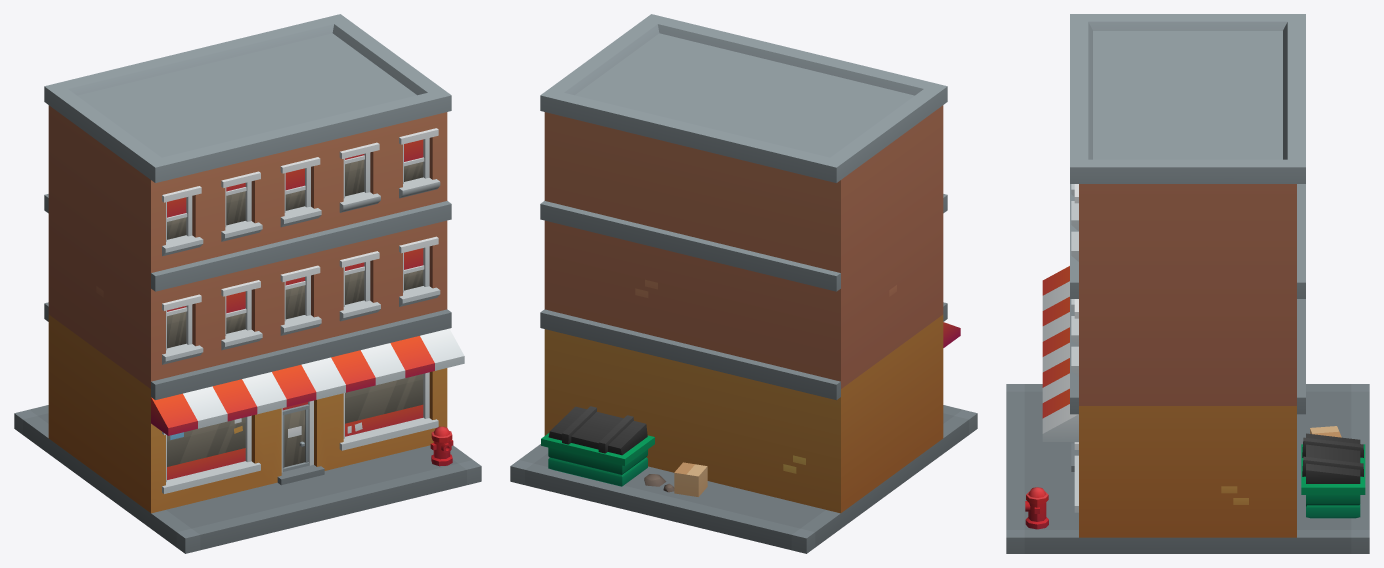
File: Building.glb
The picture shows the model from 3 angles, left to right: view 1: azimuth 30°, elevation 25°; view 2: azimuth 150°, elevation 25°; view 3: azimuth 270°, elevation 25°; orthographic projection. The views are drawn at different scales.
Visible parts, largest first — view 1: building_E; view 2: building_E; view 3: building_E.
Boxes of the visible parts, x1,y1,x2,y2 form: building_E: [14, 14, 481, 553]; building_E: [510, 14, 977, 553]; building_E: [1006, 14, 1369, 553].
Bounding box in the file's own units: 2.01 × 2.35 × 2.
Materials: 1 (1 with a texture image).
